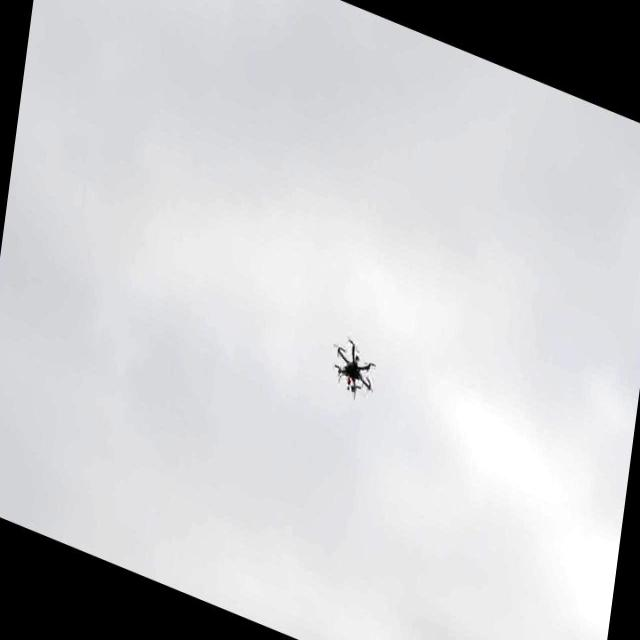drone: (328, 334, 379, 407)
